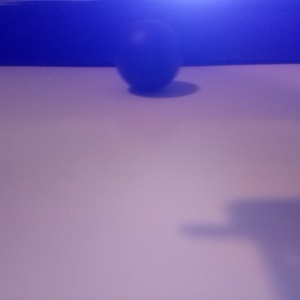alive_ball: (162, 123, 300, 296), (1, 162, 161, 300)
dead_ball: (71, 52, 205, 195), (199, 74, 300, 183)
